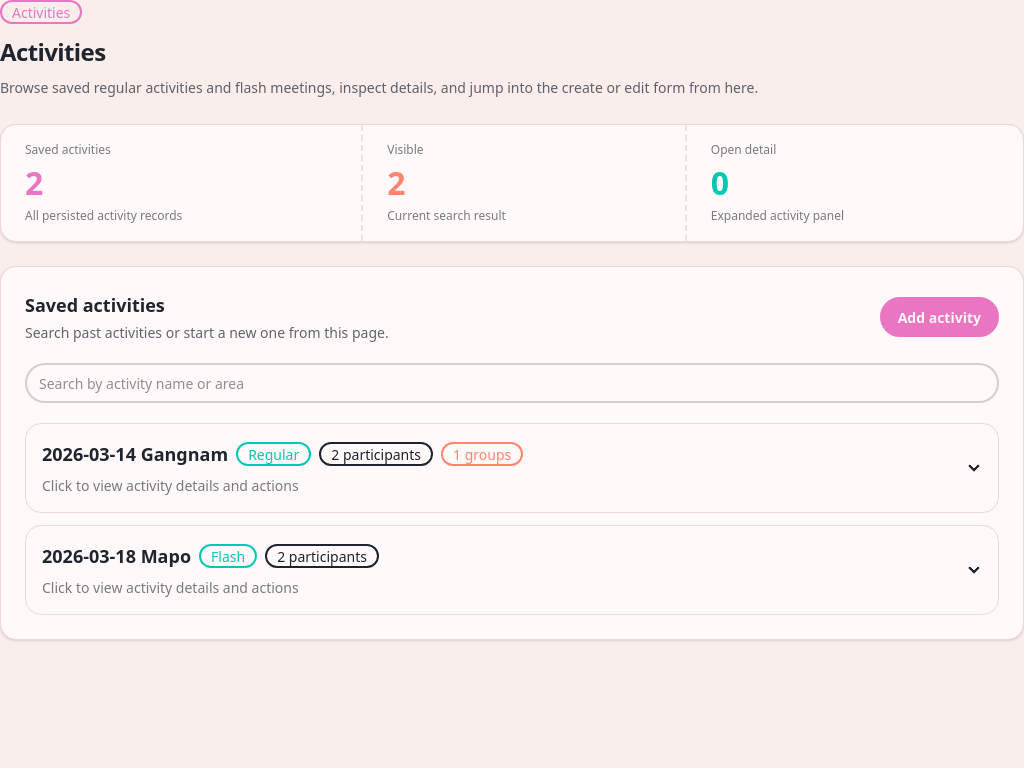
Test: activities page › shows participant tiles when expanding a flash activity
Expected: the element "2026-03-18 Mapo" is shown, [25,525,999,615]
Click the button "2026-03-18 Mapo".
click(210, 570)  # box [42,544,379,597]
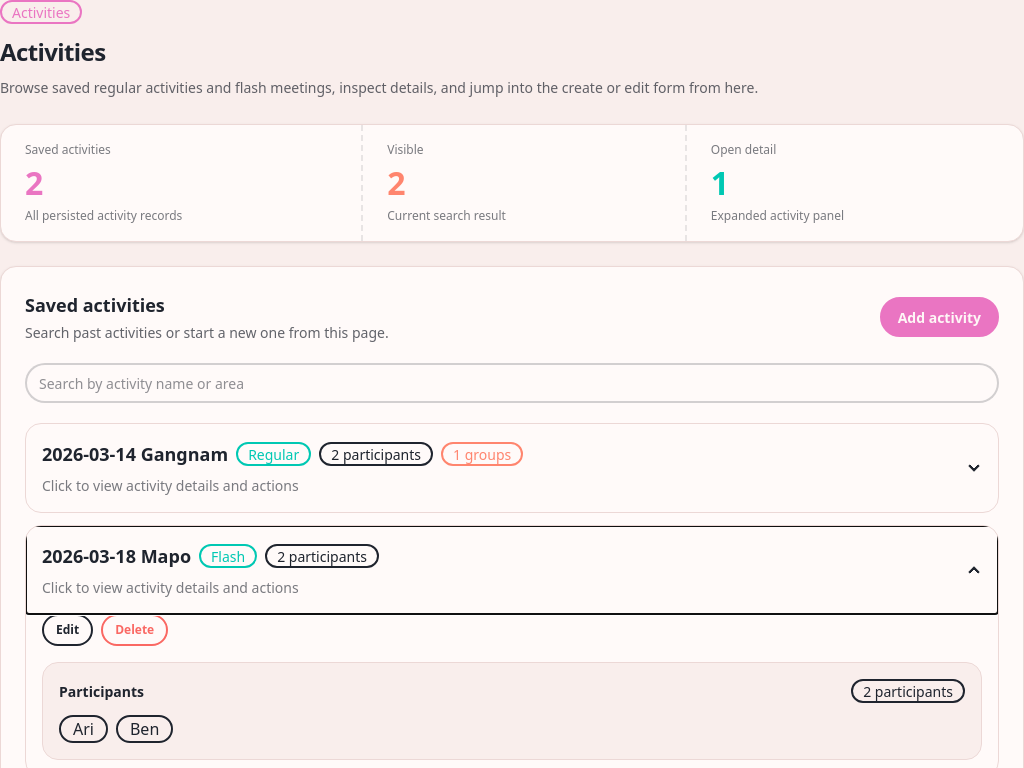
Now the heading "Participants" is shown, box [59,680,144,702]
Now the text "Ari" is shown, box [59,715,108,743]
Now the text "Ben" is shown, box [116,715,173,743]
